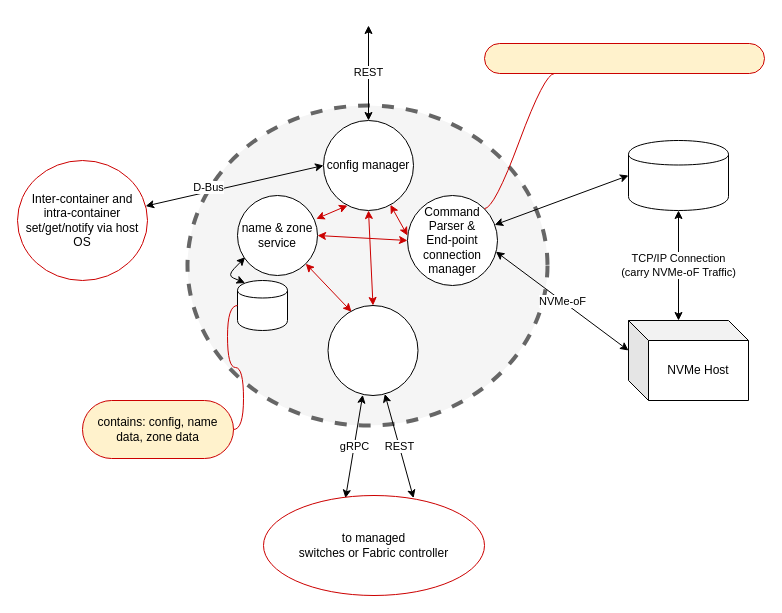
This 782x613 diagram has some shape labels left out. The centre of each missing label's shape, as x and y in pixels:
NVM sub-system: the point at 678,175
StFS DB: the point at 262,305
switch manager: the point at 372,350
The process needs to consider scaling needs: the point at 624,58
